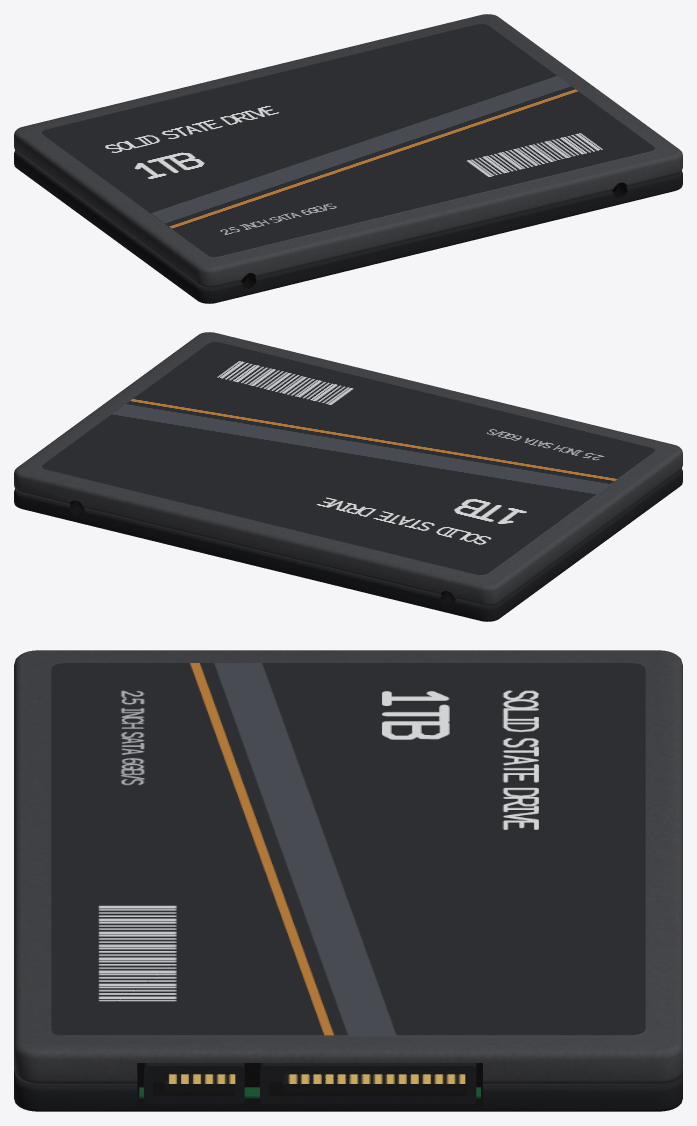
Rendered from sata-ssd.glb.
3 views of the same model, one above another, from view 1: azimuth 30°, elevation 25°; view 2: azimuth 150°, elevation 25°; view 3: azimuth 270°, elevation 25° (orthographic). The views are drawn at different scales.
Visible parts, largest first — view 1: Label, Top cover, Bottom shell; view 2: Label, Top cover, Bottom shell; view 3: Label, Top cover, Bottom shell, SATA connector housings, SATA contact blades.
Part boxes in pixels (<box>): Label: <box>42,24,654,257</box>; Top cover: <box>14,14,682,287</box>; Bottom shell: <box>14,151,682,303</box>; Label: <box>42,342,654,575</box>; Top cover: <box>14,332,682,605</box>; Bottom shell: <box>14,469,682,621</box>; Label: <box>51,663,645,1036</box>; Top cover: <box>14,650,682,1084</box>; Bottom shell: <box>14,1067,682,1111</box>; SATA connector housings: <box>144,1063,476,1104</box>; SATA contact blades: <box>164,1074,465,1091</box>.
Bounding box in the file's own units: 0.1 × 0.0071 × 0.0699.
8 materials, 8 textured.
